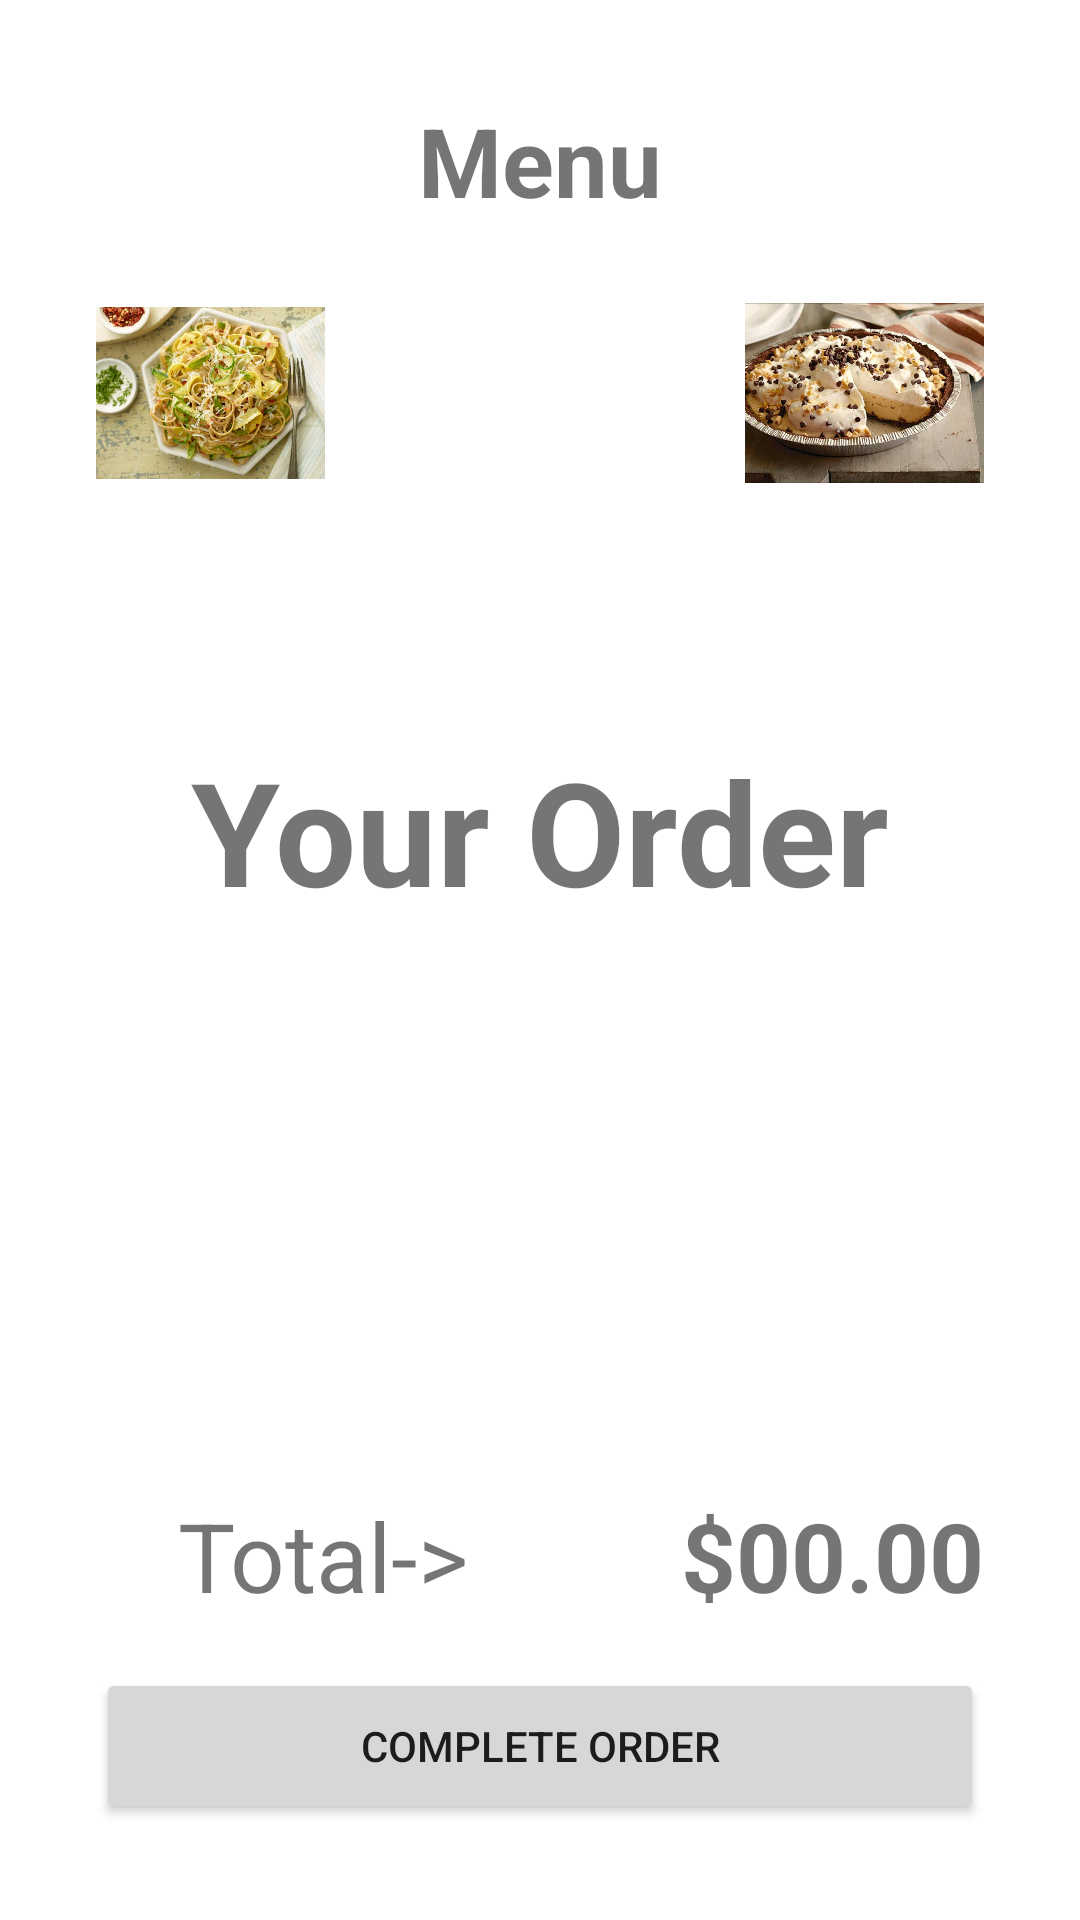

Point at icon controls on the screen. Image size 1080px×1920px, points as (x=x, y=y).
pudding pie: (x=840, y=384)
zucchini pasta: (x=186, y=386)
